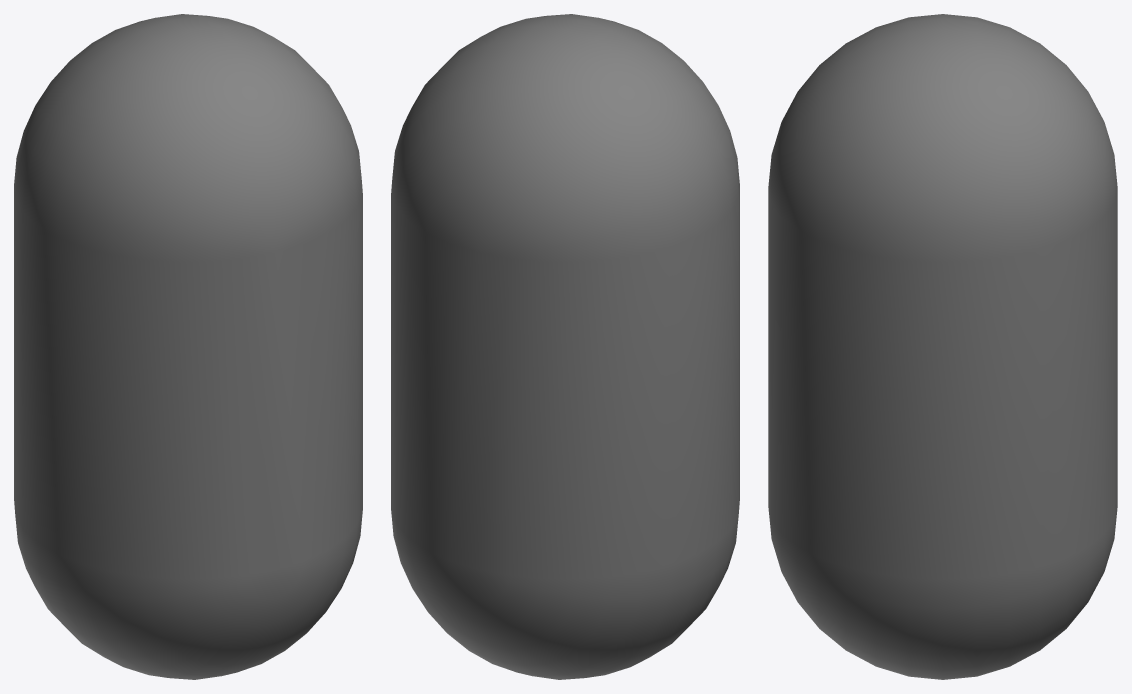
Rendered from capsule_smooth.fbx.
3 renders of one model, left to right at view 1: azimuth 30°, elevation 25°; view 2: azimuth 150°, elevation 25°; view 3: azimuth 270°, elevation 25°, orthographic.
Parts seen in each view (by area): view 1: Sphere; view 2: Sphere; view 3: Sphere.
Boxes of the visible parts, left/top/right/bottom form: Sphere: left=14, top=14, right=362, bottom=679; Sphere: left=391, top=14, right=739, bottom=679; Sphere: left=768, top=14, right=1117, bottom=679.
Size of the model in its own units: 200 by 400 by 200.
